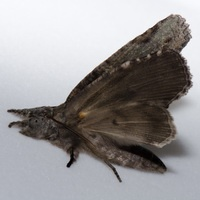insect: (8, 14, 191, 181)
